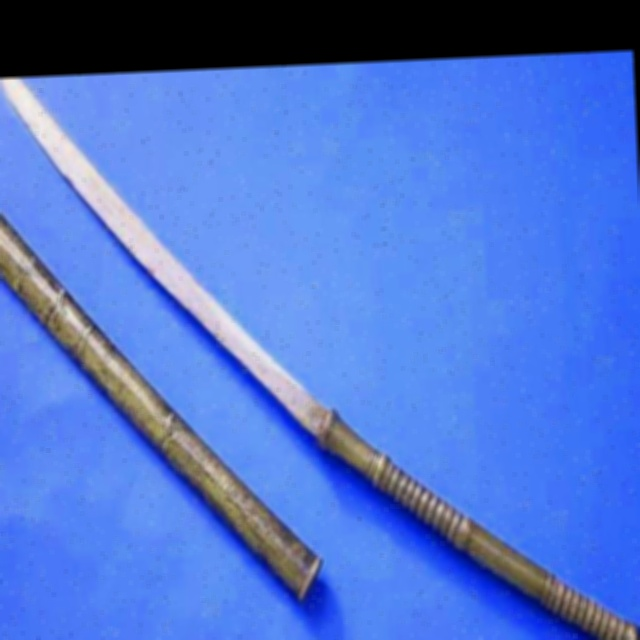Sharp-Object: (0, 53, 640, 640)
